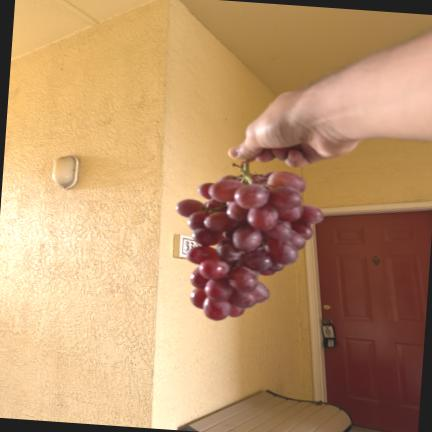grape_cluster: (175, 163, 322, 320)
